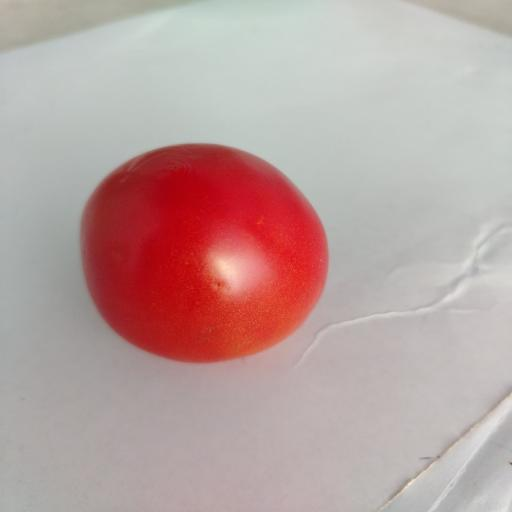ripe: (81, 144, 328, 362)
